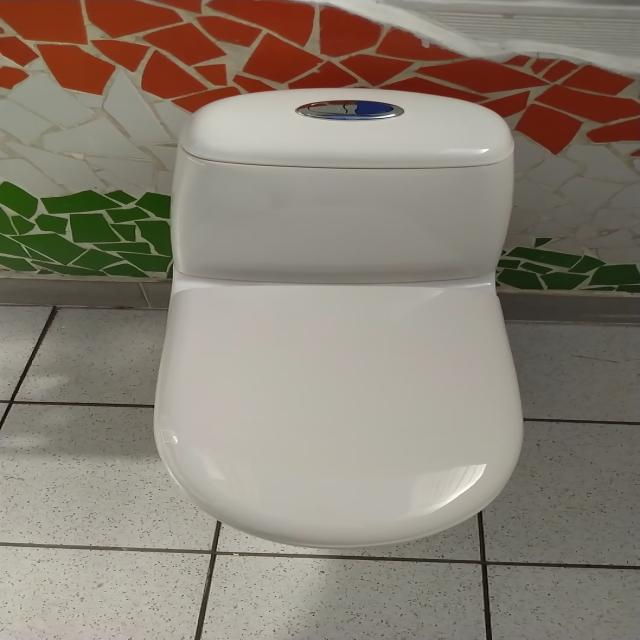toilet: (152, 86, 524, 548)
